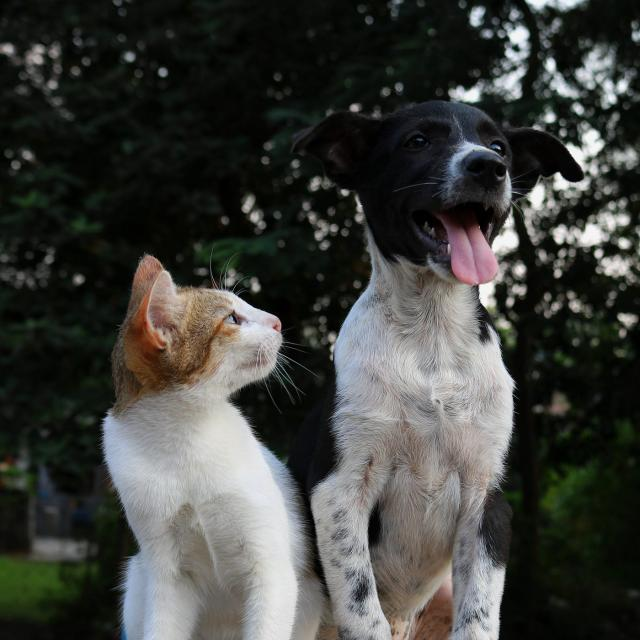cat: (90, 250, 312, 640)
dog: (308, 96, 585, 640)
